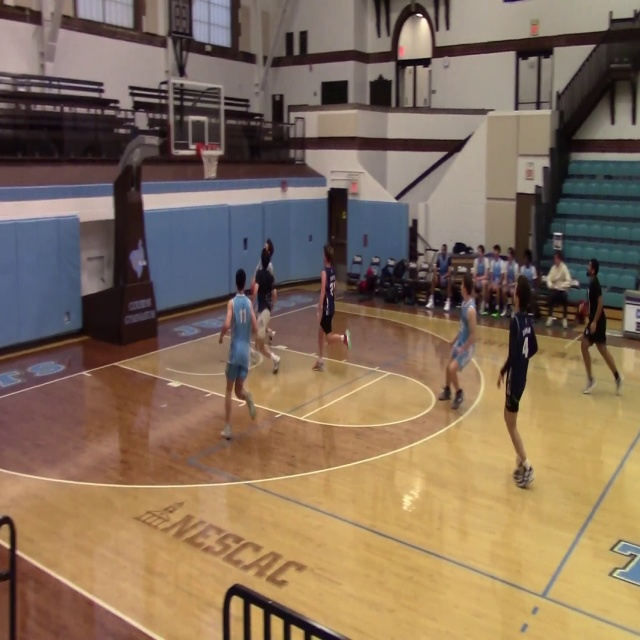Basketball: (578, 300, 590, 317)
